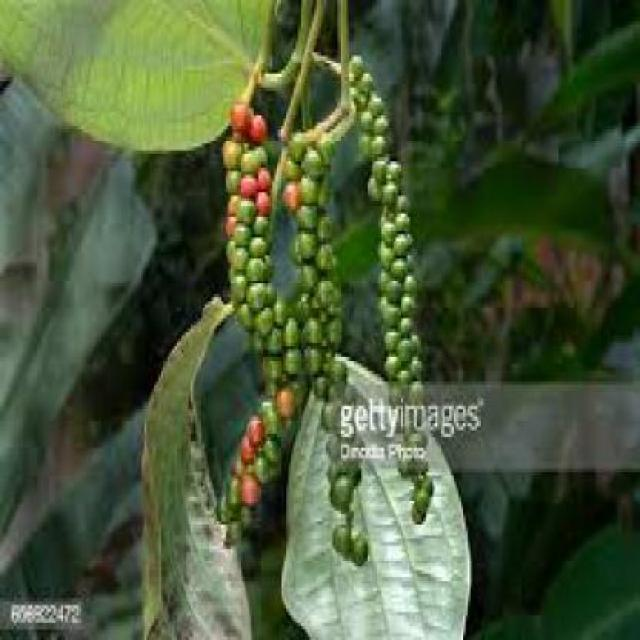RIPE: (226, 102, 268, 253)
UNRIPE: (354, 53, 435, 536), (287, 129, 365, 563)
